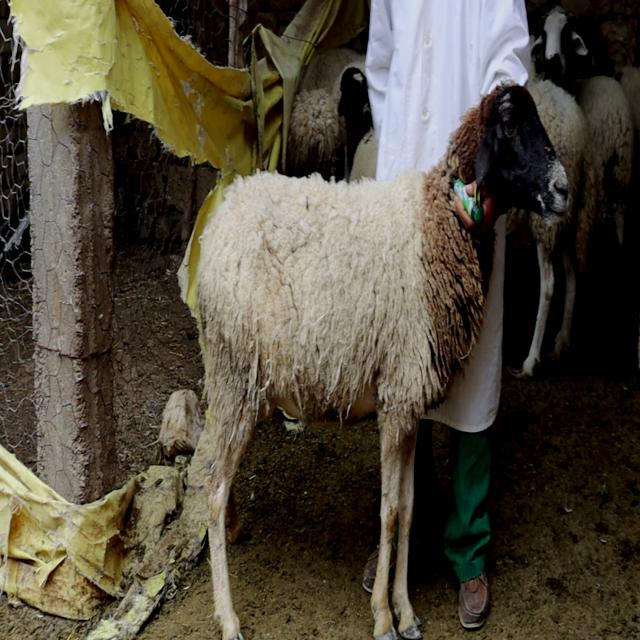Score_2: (197, 84, 568, 639)
